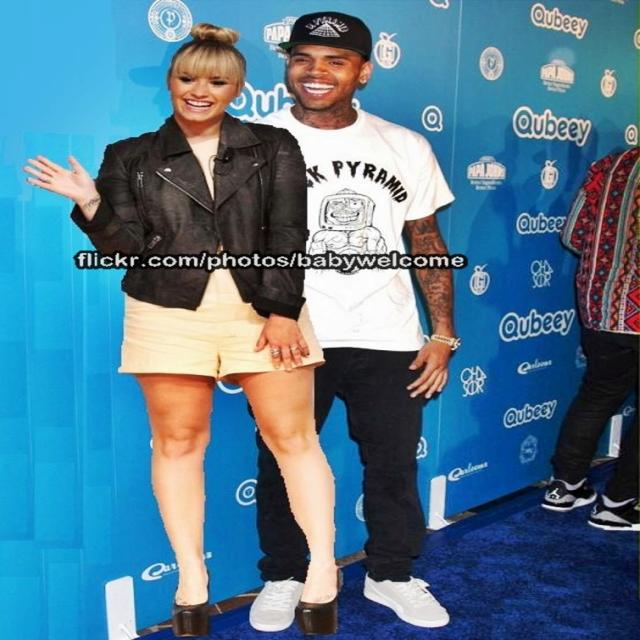no_helmet: (269, 5, 384, 119), (191, 19, 290, 122)
